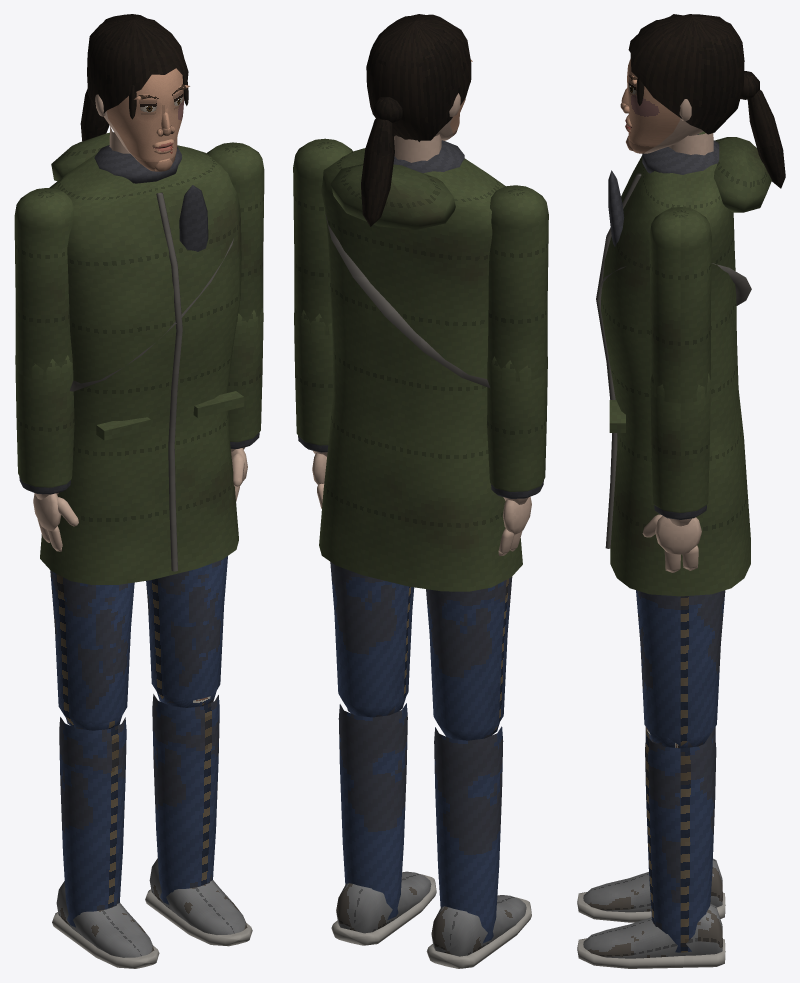
The model's file is char_lucia.glb.
3 renders of one model, left to right at view 1: azimuth 30°, elevation 25°; view 2: azimuth 150°, elevation 25°; view 3: azimuth 270°, elevation 25°, orthographic. The views are drawn at different scales.
Parts seen in each view (by area): view 1: Spine, Head, ShinL, ShinR, ThighR, UpperArmR, ThighL, ForearmR, UpperArmL, FootR, FootL, ForearmL (+2 smaller); view 2: Spine, Head, ShinL, ShinR, ThighR, UpperArmR, ThighL, ForearmR, UpperArmL, ForearmL, FootL, FootR (+1 smaller); view 3: Spine, Head, ShinL, ThighL, UpperArmL, ForearmL, FootL, FootR, HandL.
Part boxes in pixels (box(x1,y1,x2,y2)): Spine: box(40, 132, 244, 584); Head: box(80, 14, 189, 171); ShinL: box(152, 691, 219, 904); ShinR: box(59, 716, 126, 927); ThighR: box(50, 570, 134, 725); UpperArmR: box(14, 188, 73, 379); ThighL: box(146, 556, 227, 701); ForearmR: box(15, 355, 74, 499); UpperArmL: box(207, 142, 264, 332); FootR: box(52, 881, 159, 968); FootL: box(145, 858, 252, 946); ForearmL: box(227, 308, 263, 452); Spine: box(319, 140, 522, 591); Head: box(361, 14, 472, 226); ShinL: box(338, 696, 407, 919); ShinR: box(434, 722, 503, 943); ThighR: box(426, 576, 512, 740); UpperArmR: box(487, 185, 548, 381); ThighL: box(330, 562, 414, 717); ForearmR: box(487, 356, 547, 504); UpperArmL: box(293, 138, 352, 335); ForearmL: box(294, 308, 333, 456); FootL: box(331, 871, 436, 945); FootR: box(426, 895, 531, 968); Spine: box(596, 134, 771, 596); Head: box(620, 14, 785, 188); ShinL: box(645, 727, 716, 952); ThighL: box(636, 590, 725, 746); UpperArmL: box(649, 207, 711, 403); ForearmL: box(650, 373, 710, 526); FootL: box(577, 903, 725, 968); FootR: box(577, 858, 725, 922); HandL: box(642, 514, 701, 572).
Size of the model in its own units: 0.4888 by 1.75 by 0.3578.
Materials: 10 (10 with a texture image).
